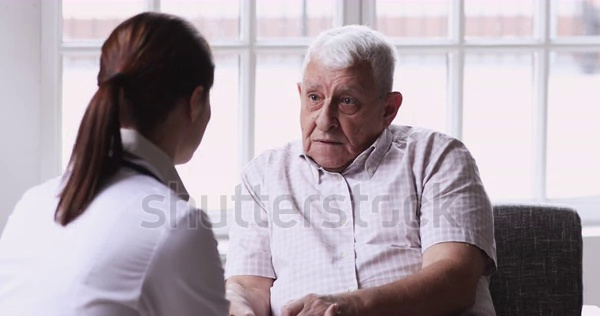No Mask: (290, 28, 411, 172)
